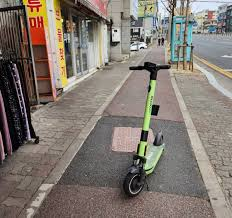kick_board: (124, 60, 171, 195)
kick_body: (147, 142, 162, 173)
kick_handler: (130, 61, 171, 78)
kick_neck: (138, 73, 159, 154)
kick_wheel: (125, 168, 147, 194)
